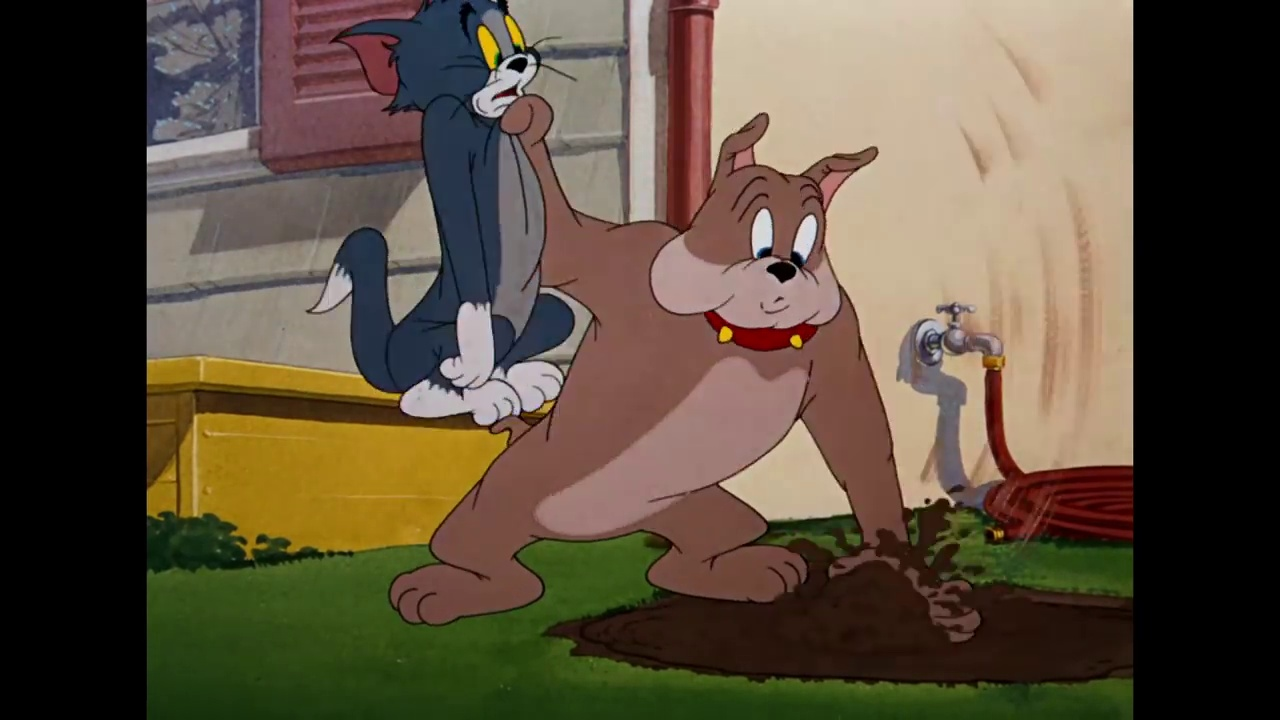spike: (643, 113, 880, 354)
tom: (334, 1, 556, 126)
